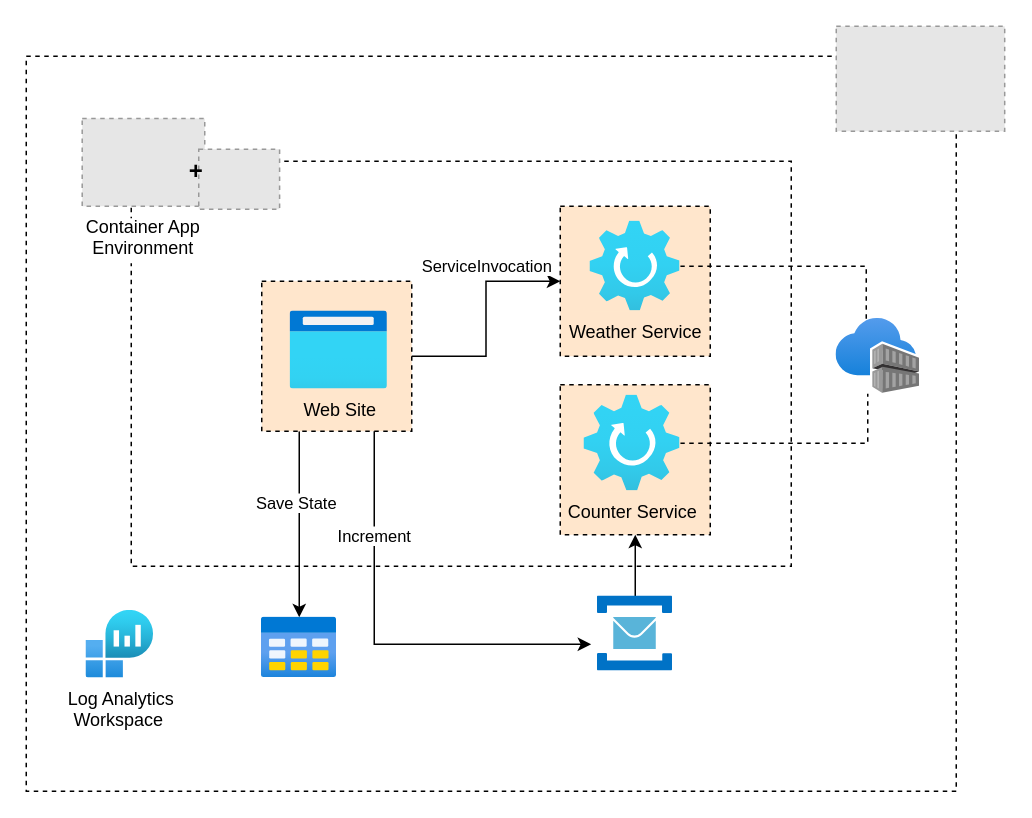
The diagram is 1032 pixels wide and 818 high, and some of its shapes have lost their labels. Grey dashed boxes stand in for pictures. The centre of each missing label's shape, as x and y in pixels:
Service Bus Topic: "CounterIncremented": point (634, 633)
Table Storage: point (298, 646)
